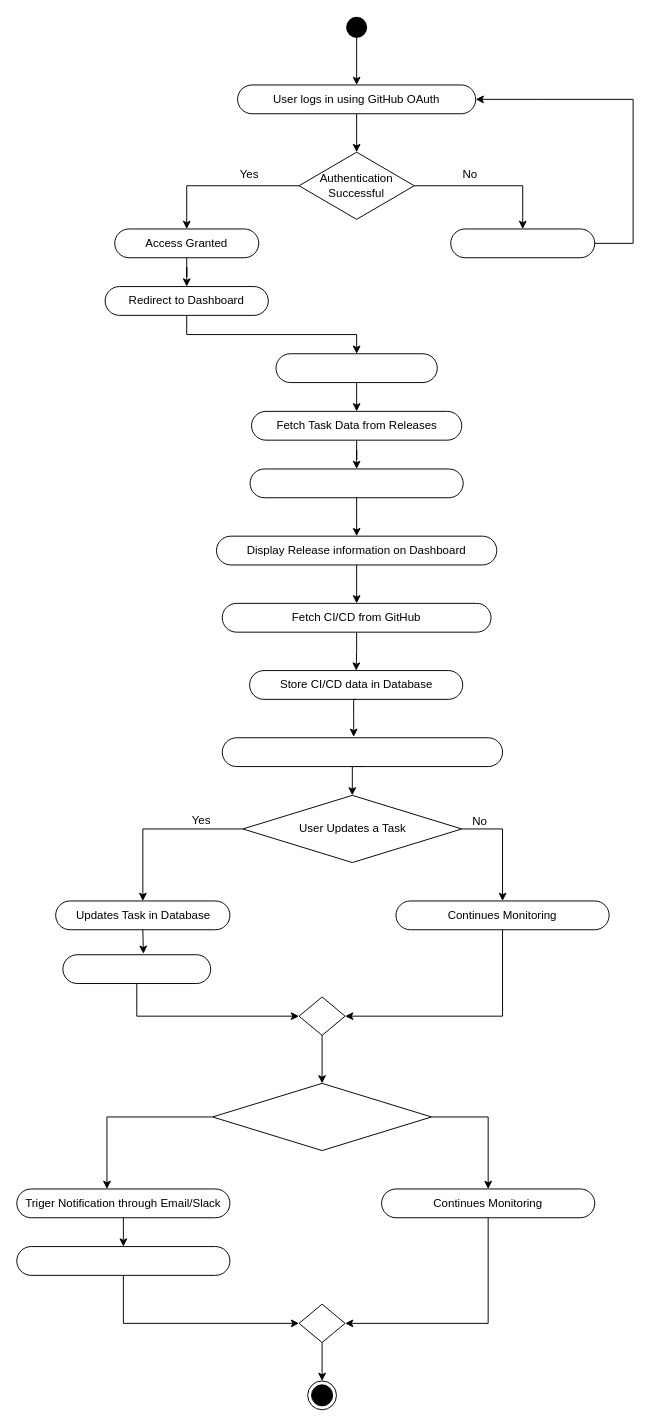
This 658x1427 diagram has some shape labels left out. The box of each missing label's shape, as (x1, y1, x2, y2) in pixels:
CI/CD Failure Detected: (212, 1082, 432, 1151)
Display CI/CD information on Dashboard: (221, 737, 503, 767)
Fetch Releases from GitHub: (275, 353, 437, 383)
Refresh Dashboard: (62, 954, 211, 984)
Show Error Message: (450, 228, 595, 258)
Store information in Database: (249, 468, 463, 498)
Updates Dashboard with failure status: (16, 1246, 230, 1275)
